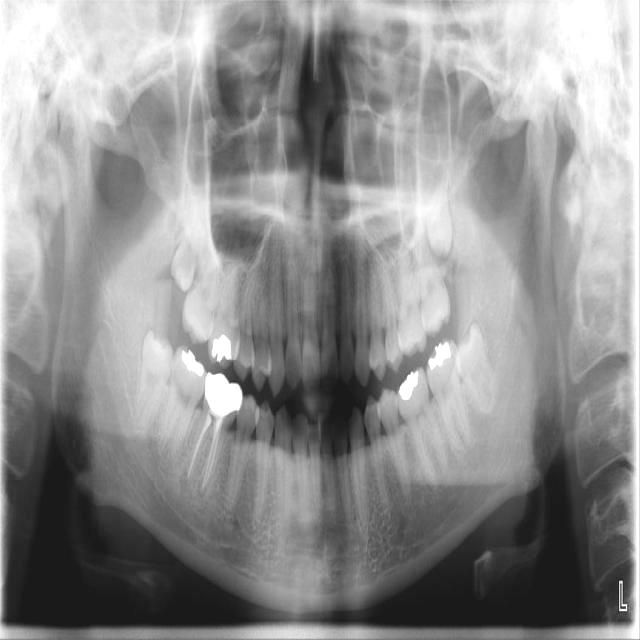Crown: (203, 372, 243, 427)
Filling: (427, 343, 452, 371), (398, 370, 419, 401), (182, 348, 205, 376), (212, 335, 233, 361)
Root Canal Treatment: (189, 415, 209, 478), (203, 422, 219, 489)
impacted tooth: (134, 327, 172, 432), (457, 323, 499, 414), (426, 163, 453, 259), (169, 210, 197, 292)
